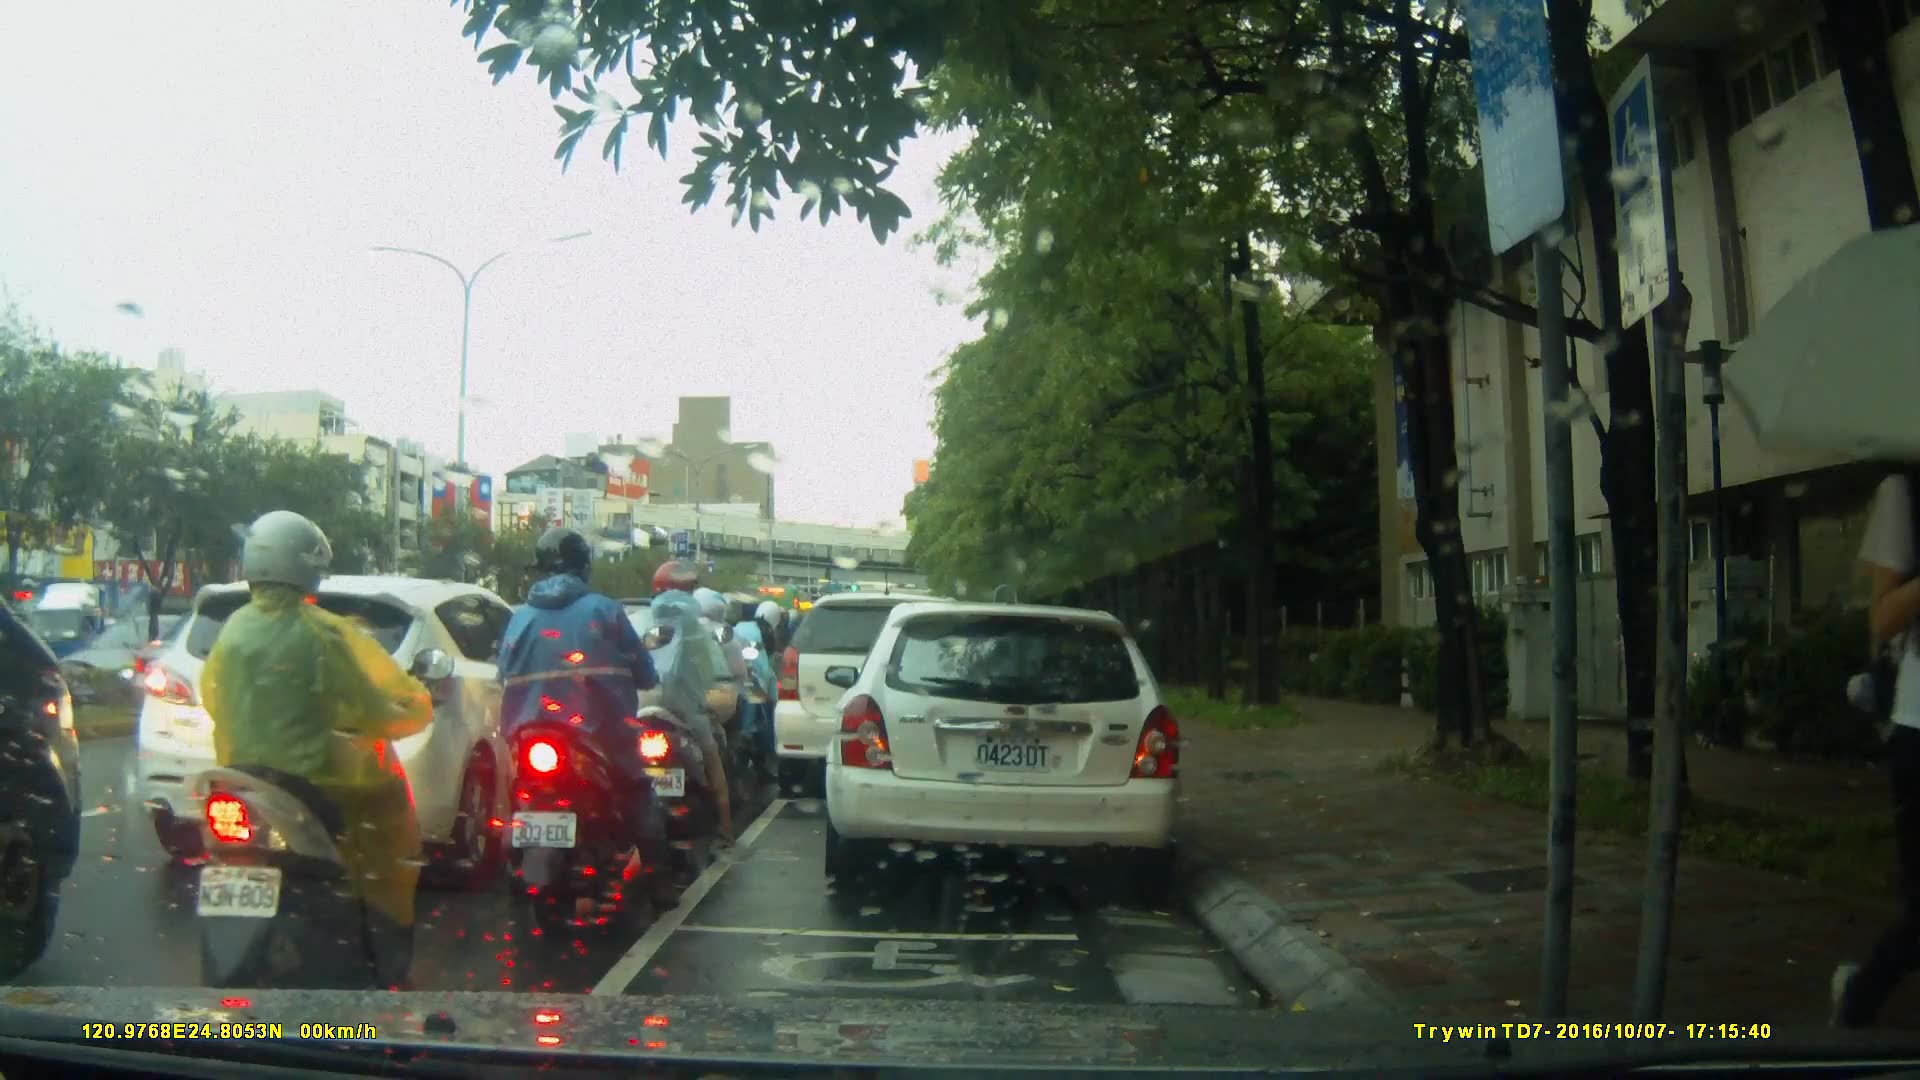pedestrian: (1847, 400, 1916, 1029)
rider: (179, 504, 456, 1022), (494, 525, 682, 922), (602, 560, 738, 852), (644, 581, 763, 823), (721, 594, 788, 766)
vehicle: (137, 572, 590, 878), (822, 604, 1188, 883), (774, 595, 995, 802), (49, 610, 278, 715), (20, 576, 199, 697)
